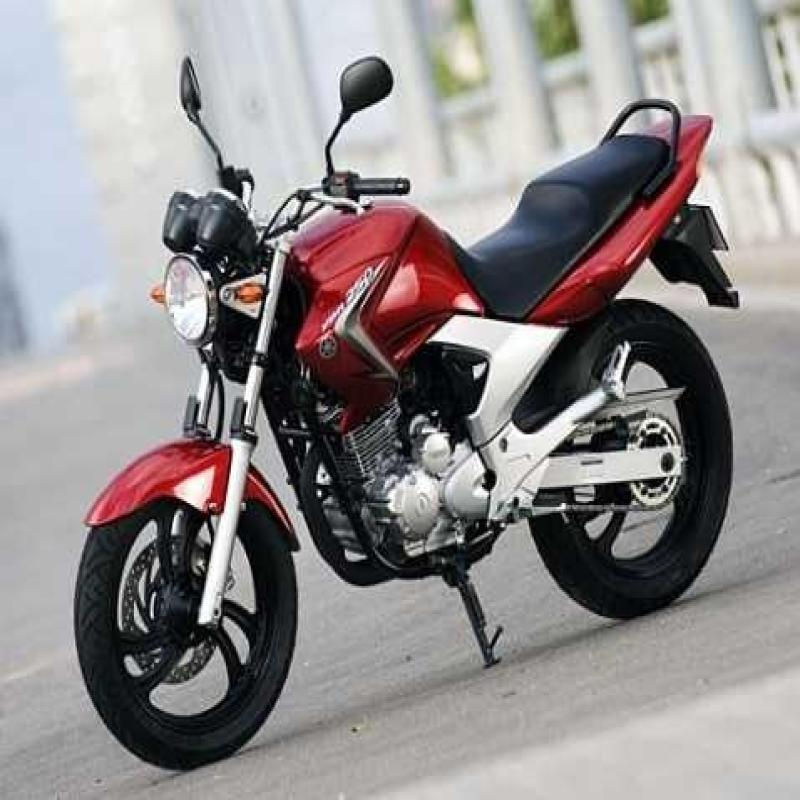bike: (62, 49, 724, 746)
